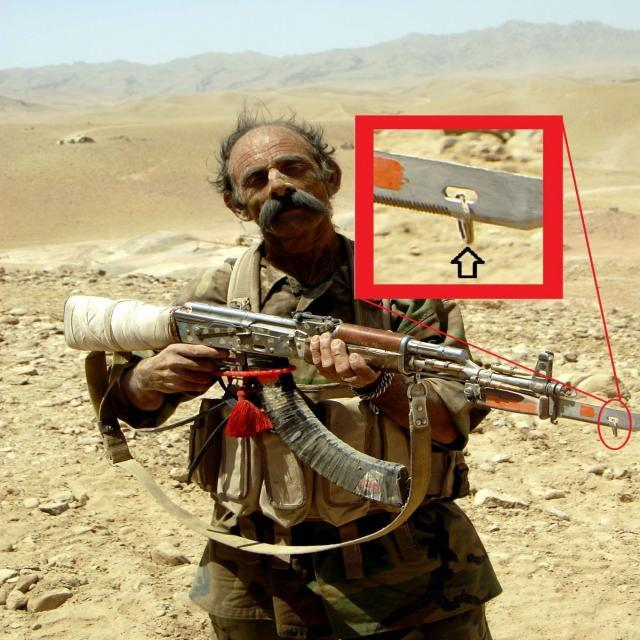ak: (50, 286, 640, 502)
